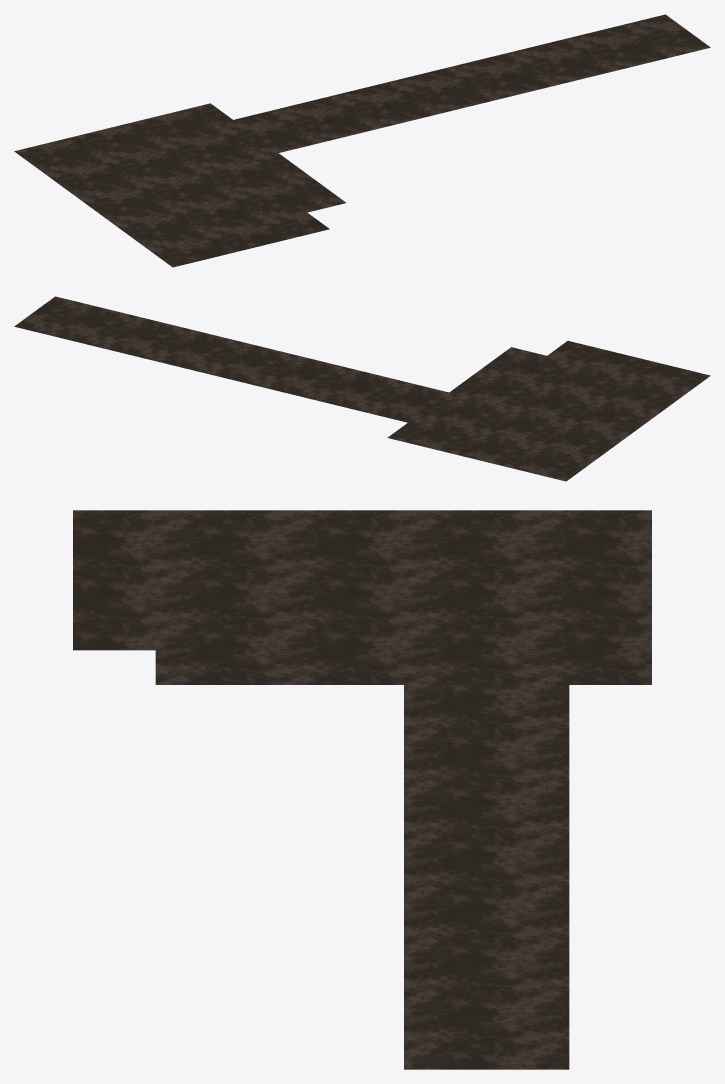
Rendered from floor_1_-1.glb.
3 renders of one model, top to bottom at view 1: azimuth 30°, elevation 25°; view 2: azimuth 150°, elevation 25°; view 3: azimuth 270°, elevation 25°, orthographic. The views are drawn at different scales.
Parts seen in each view (by area): view 1: floor_1_-1; view 2: floor_1_-1; view 3: floor_1_-1.
Boxes of the visible parts, box(x1,y1,x2,y2) form: floor_1_-1: box(14, 14, 710, 267); floor_1_-1: box(14, 296, 710, 481); floor_1_-1: box(73, 510, 651, 1069).
Bounding box in the file's own units: 64 × 0 × 28.
1 material, 1 textured.
